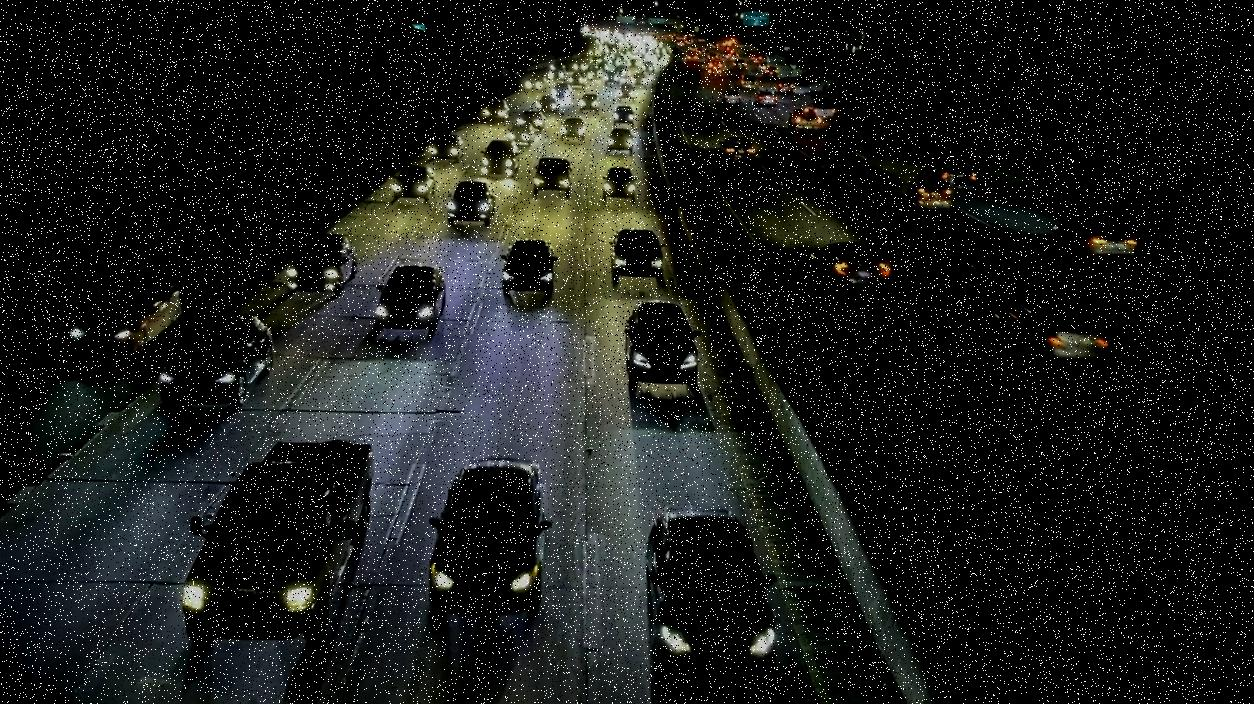car: (639, 492, 785, 684), (427, 450, 547, 624), (53, 270, 187, 372), (151, 314, 283, 410), (993, 292, 1119, 376), (611, 296, 705, 400), (1043, 212, 1147, 276), (377, 263, 451, 336), (289, 232, 361, 296), (491, 240, 575, 294), (811, 243, 893, 292), (607, 228, 667, 284), (446, 180, 494, 222), (393, 164, 441, 206), (478, 139, 525, 181), (913, 157, 977, 187), (597, 164, 642, 206), (532, 155, 574, 199), (787, 105, 838, 134), (429, 133, 469, 162), (718, 136, 758, 162), (604, 128, 637, 153)
truck: (167, 436, 399, 634)
